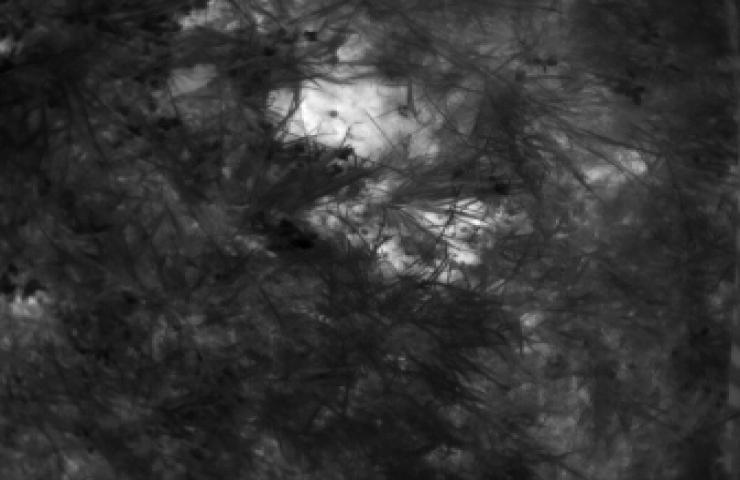landmines: (264, 41, 445, 169)
